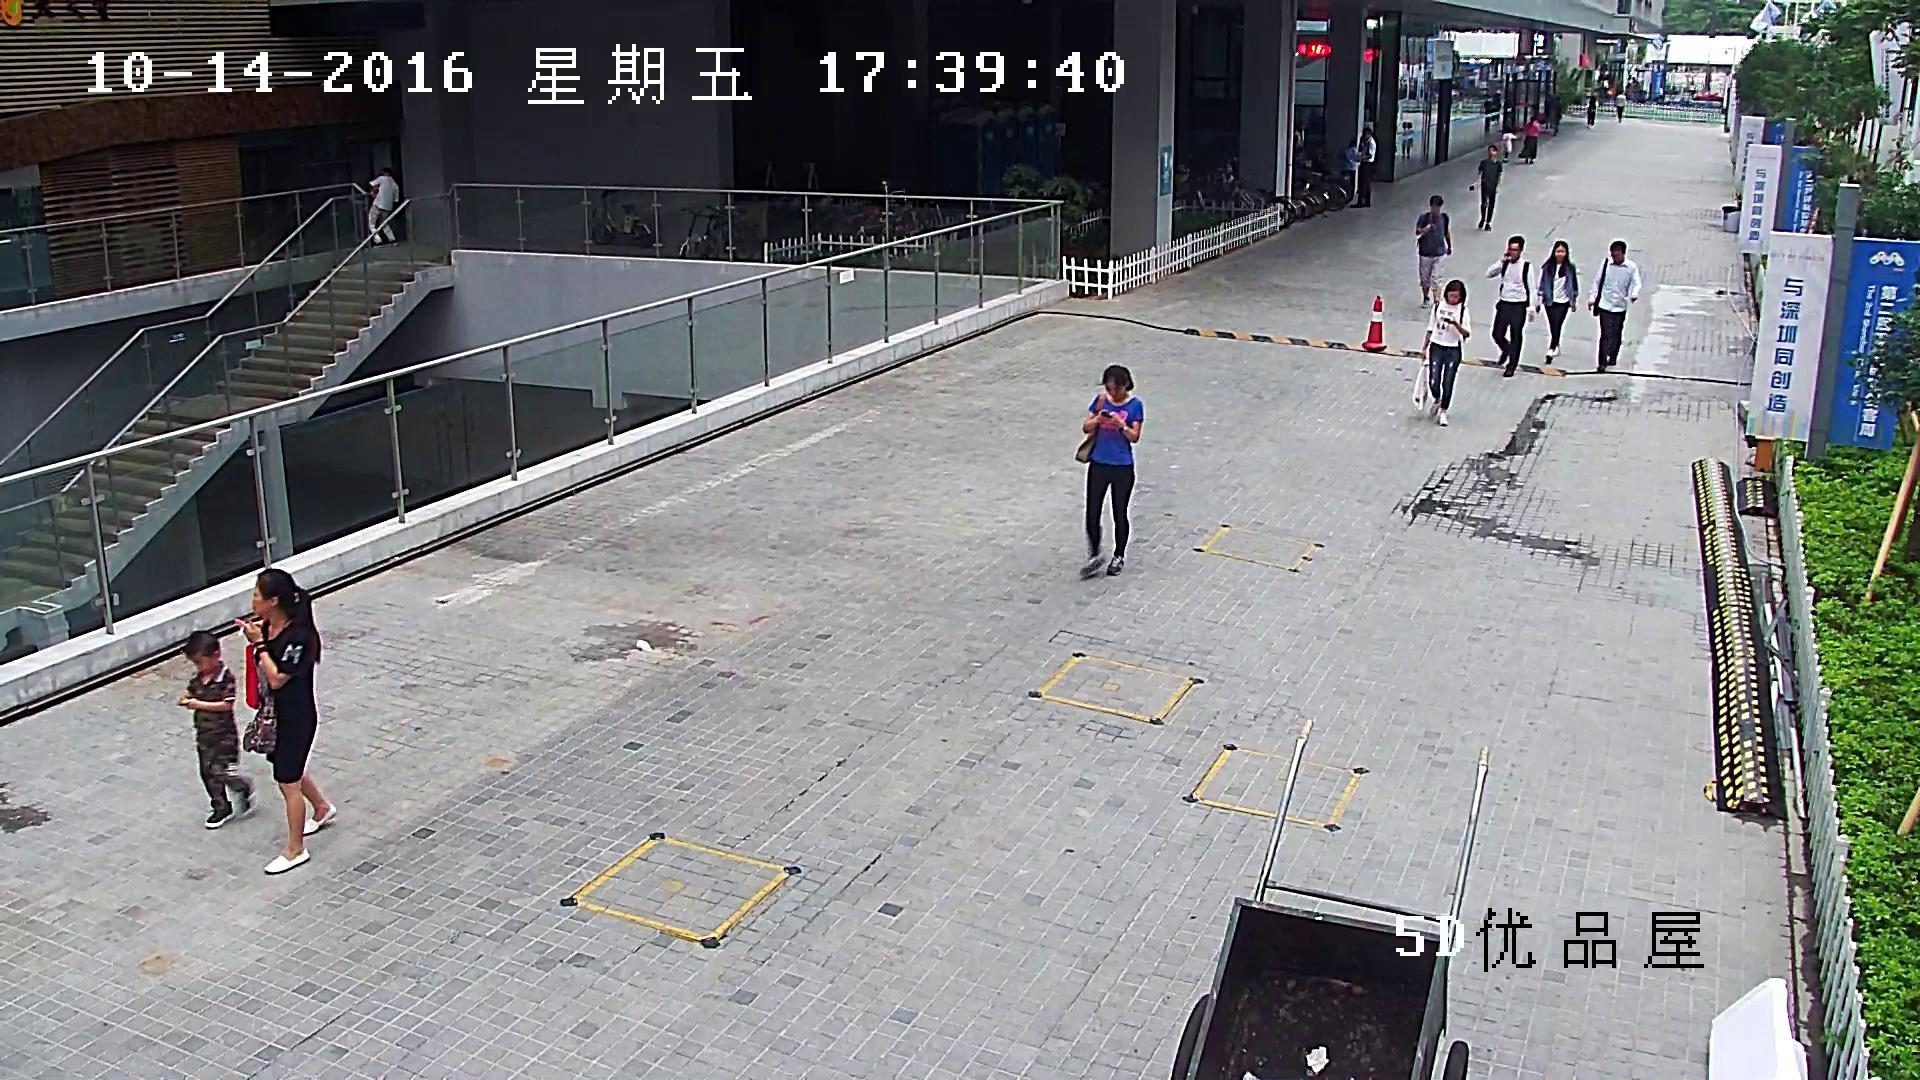person: (230, 566, 337, 875), (176, 628, 254, 829), (1073, 363, 1145, 579), (1411, 278, 1473, 425), (1485, 234, 1541, 377), (1586, 239, 1642, 374), (1534, 239, 1578, 365), (1414, 191, 1453, 308), (1468, 144, 1504, 231), (365, 165, 401, 247), (1348, 126, 1376, 209), (1338, 135, 1361, 199), (1518, 114, 1542, 164), (1498, 126, 1520, 163), (1399, 121, 1414, 160), (1584, 94, 1598, 129), (1613, 88, 1627, 124)
